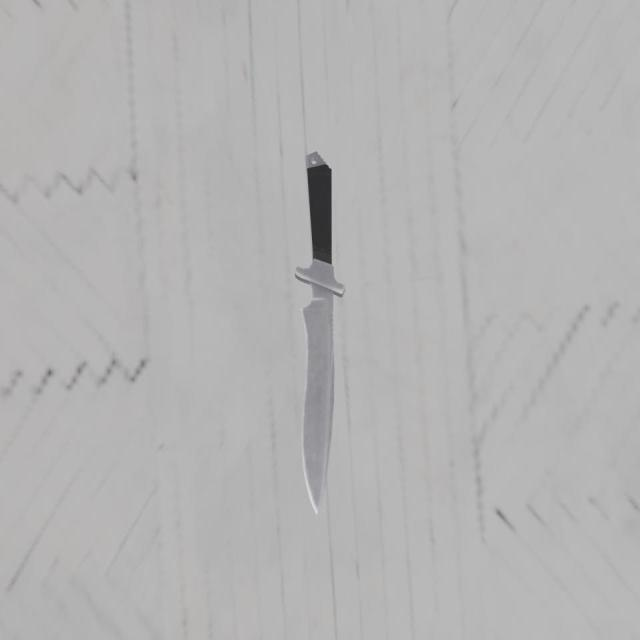knife: (305, 138, 332, 268)
